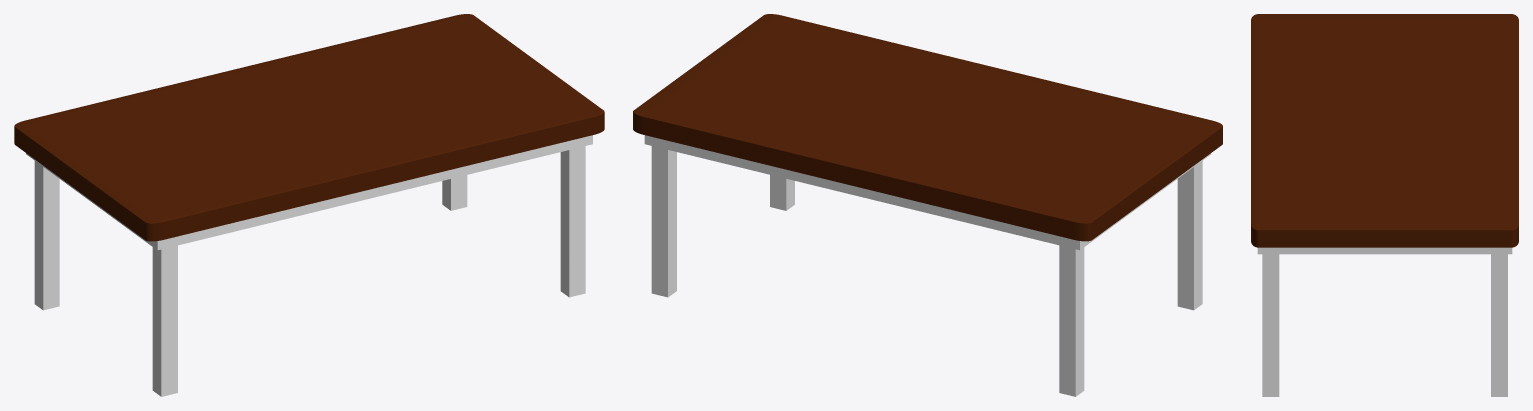
Rendered from table.glb.
3 renders of one model, left to right at view 1: azimuth 30°, elevation 25°; view 2: azimuth 150°, elevation 25°; view 3: azimuth 270°, elevation 25°, orthographic. The views are drawn at different scales.
Parts seen in each view (by area): view 1: Cube.016_19, Cube.018_21, Cube.017_20; view 2: Cube.016_19, Cube.018_21, Cube.017_20; view 3: Cube.016_19, Cube.018_21, Cube.017_20.
Part boxes in pixels (x1,y1,x2,y2): Cube.016_19: [14, 14, 604, 241]; Cube.018_21: [34, 146, 585, 396]; Cube.017_20: [26, 135, 592, 250]; Cube.016_19: [633, 14, 1222, 241]; Cube.018_21: [651, 146, 1202, 396]; Cube.017_20: [644, 135, 1211, 250]; Cube.016_19: [1251, 14, 1518, 247]; Cube.018_21: [1262, 254, 1507, 396]; Cube.017_20: [1257, 247, 1512, 254].
Size of the model in its own units: 2.05 by 0.7738 by 1.07.
